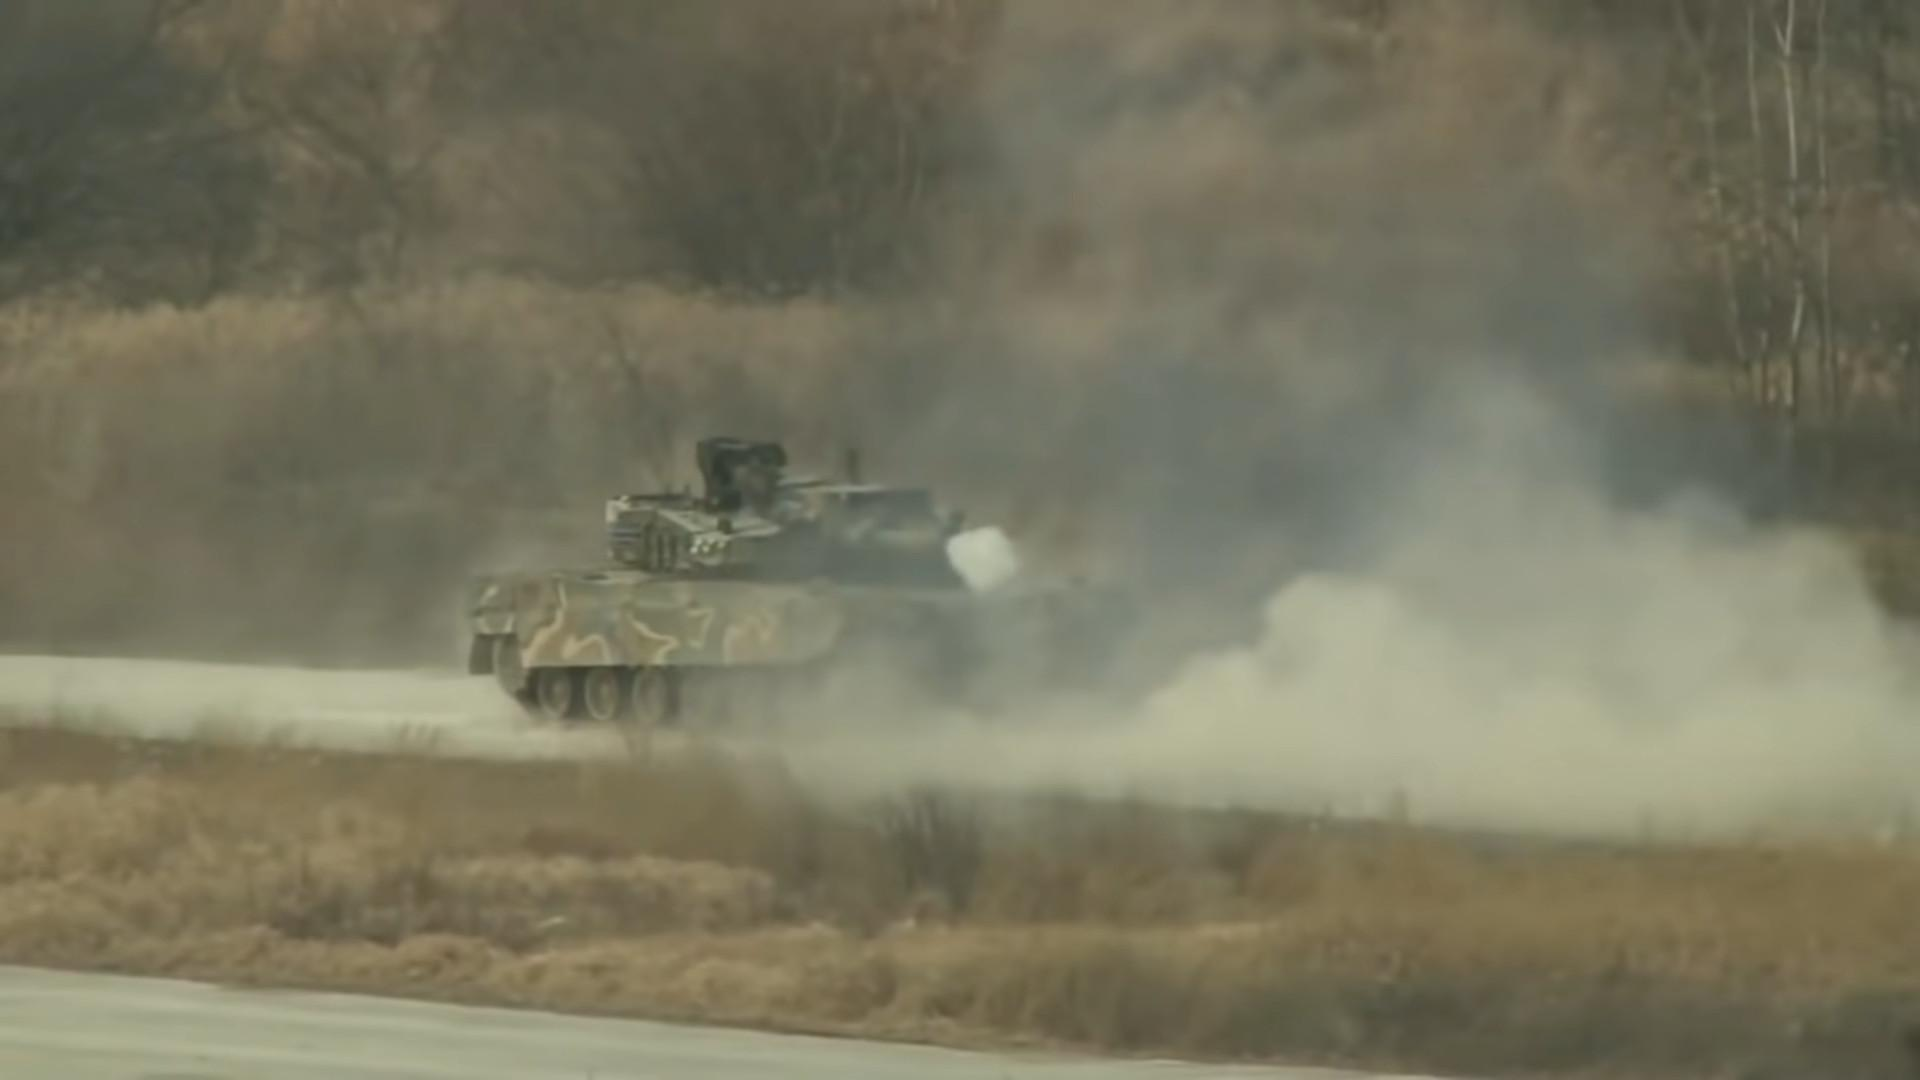tank: (465, 434, 1130, 737)
